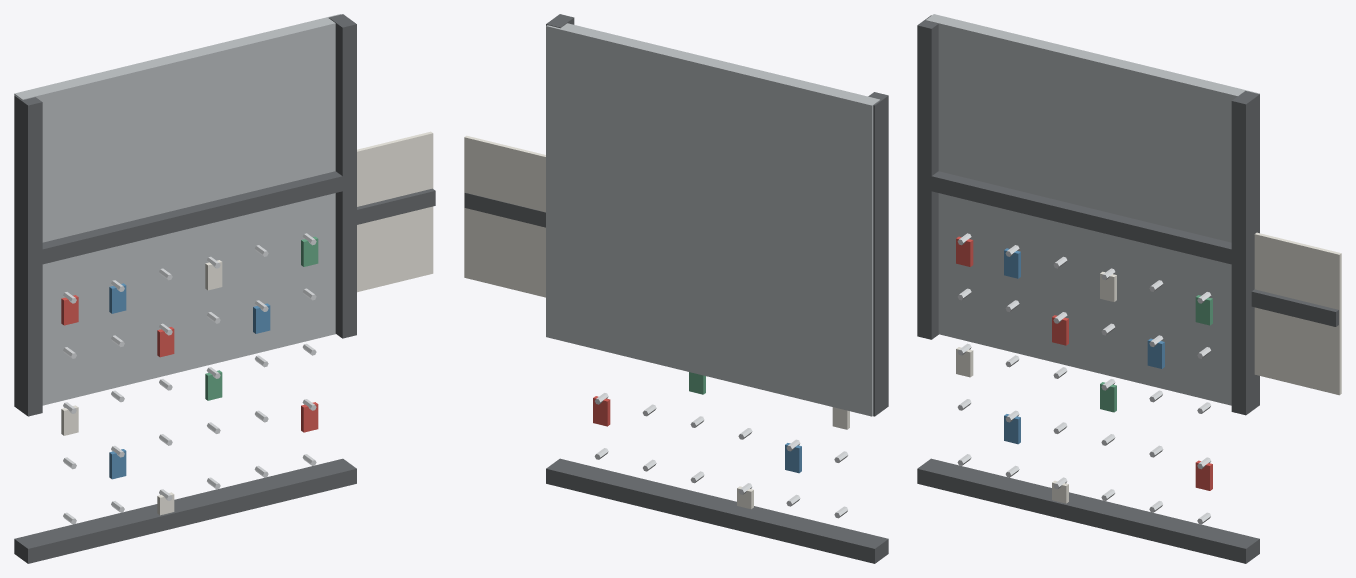
File: car-repair-garage-and-mot-workshop-car-repair-garage-a-f1686ea6__34032.glb
3 views of the same model, side by side, from view 1: azimuth 30°, elevation 25°; view 2: azimuth 150°, elevation 25°; view 3: azimuth 330°, elevation 25° (orthographic).
Parts seen in each view (by area): view 1: car-repair-garage-and-mot-workshop-key-board; view 2: car-repair-garage-and-mot-workshop-key-board; view 3: car-repair-garage-and-mot-workshop-key-board.
Boxes of the visible parts, x1,y1,x2,y2 form: car-repair-garage-and-mot-workshop-key-board: (14, 14, 435, 563); car-repair-garage-and-mot-workshop-key-board: (464, 14, 888, 563); car-repair-garage-and-mot-workshop-key-board: (917, 14, 1341, 563).
Size of the model in its own units: 0.863 by 0.9162 by 0.06.
